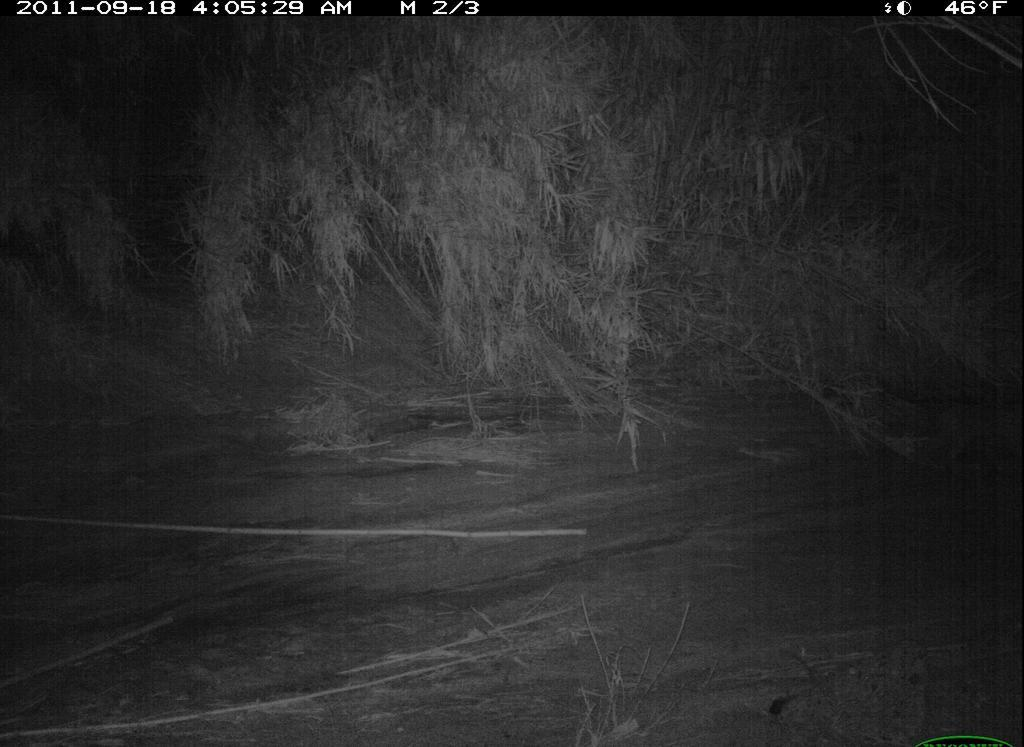bobcat: (890, 390, 1022, 474)
